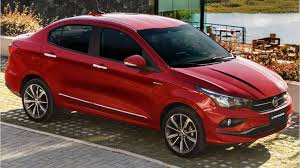car: (5, 11, 291, 154)
